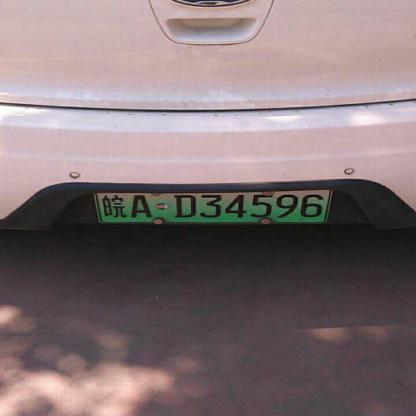lp: (92, 189, 333, 222)
